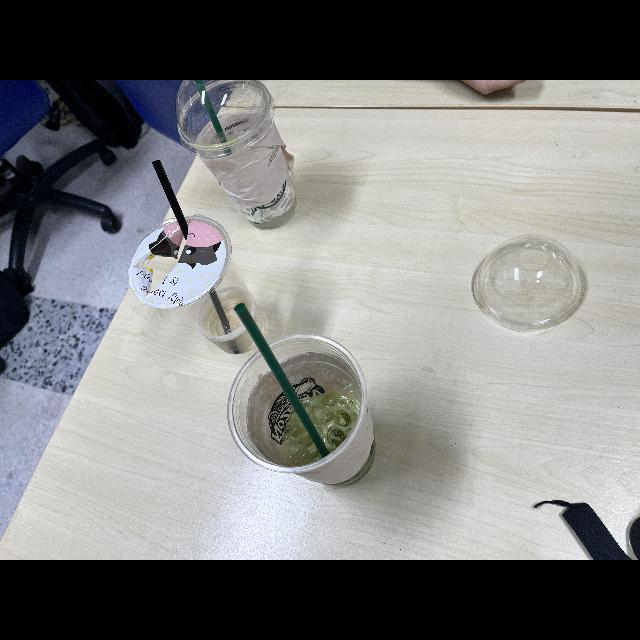plastic_cup: (224, 333, 393, 491), (120, 216, 276, 350), (167, 90, 313, 232)
plastic_cup_lid: (462, 234, 590, 334), (166, 80, 280, 154)
straw: (228, 302, 334, 452), (137, 161, 205, 249), (190, 81, 237, 153)
